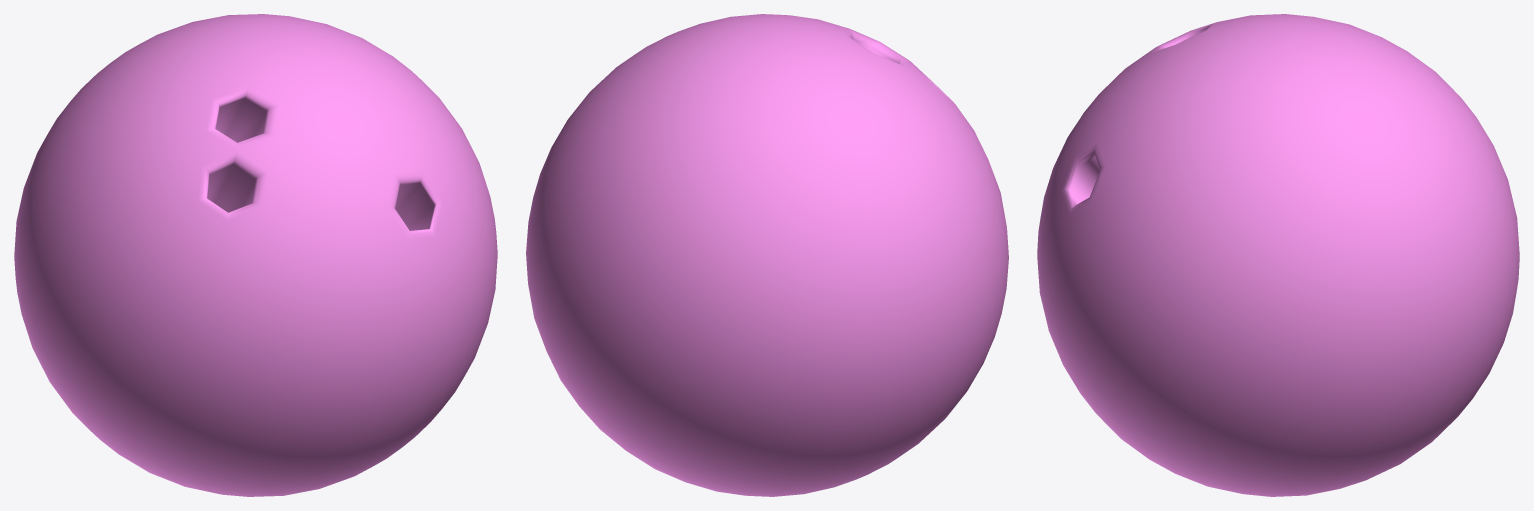
The model's file is bowlingBall.glb.
The picture shows the model from 3 angles, left to right: view 1: azimuth 30°, elevation 25°; view 2: azimuth 150°, elevation 25°; view 3: azimuth 270°, elevation 25°; orthographic projection.
Parts seen in each view (by area): view 1: Bowling Ball; view 2: Bowling Ball; view 3: Bowling Ball.
Part boxes in pixels (<box>): Bowling Ball: <box>14,14,497,496</box>; Bowling Ball: <box>526,14,1008,496</box>; Bowling Ball: <box>1037,14,1519,496</box>.
Bounding box in the file's own units: 2 × 2 × 2.
